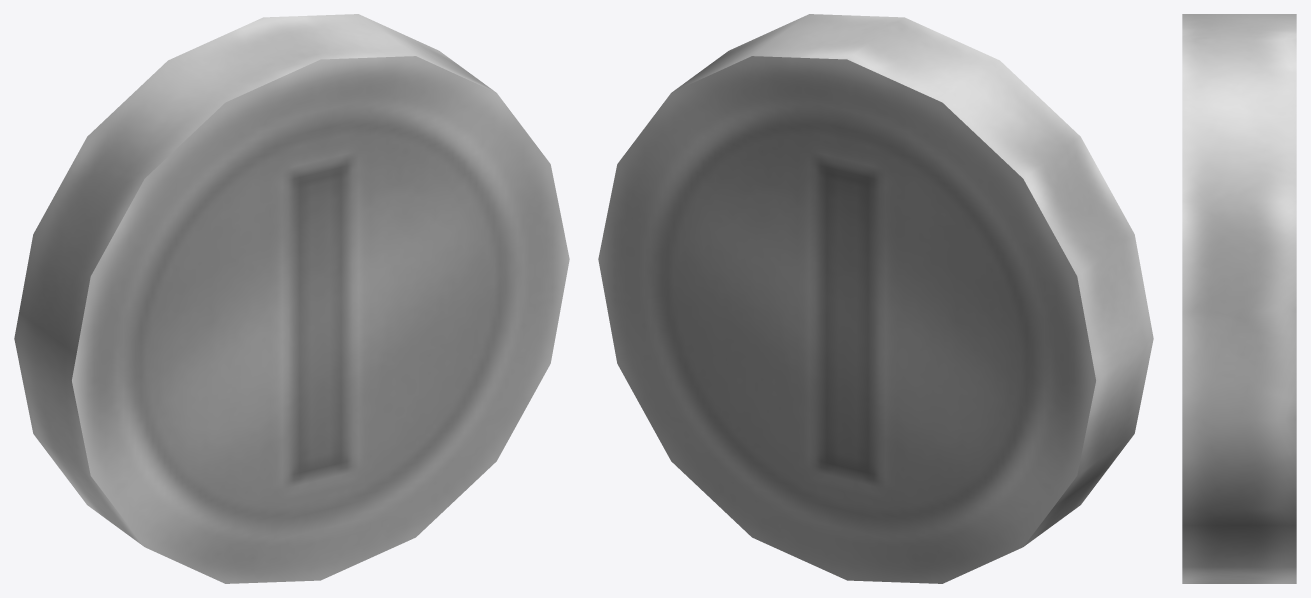
File: Coin_Classic.FBX
The picture shows the model from 3 angles, left to right: view 1: azimuth 30°, elevation 25°; view 2: azimuth 150°, elevation 25°; view 3: azimuth 270°, elevation 25°; orthographic projection.
Visible parts, largest first — view 1: Coin_Classic; view 2: Coin_Classic; view 3: Coin_Classic.
Part boxes in pixels (box(x1,y1,x2,y2)): Coin_Classic: box(14, 14, 569, 583); Coin_Classic: box(598, 14, 1153, 583); Coin_Classic: box(1182, 14, 1296, 583).
Size of the model in its own units: 1 by 1 by 0.2.
